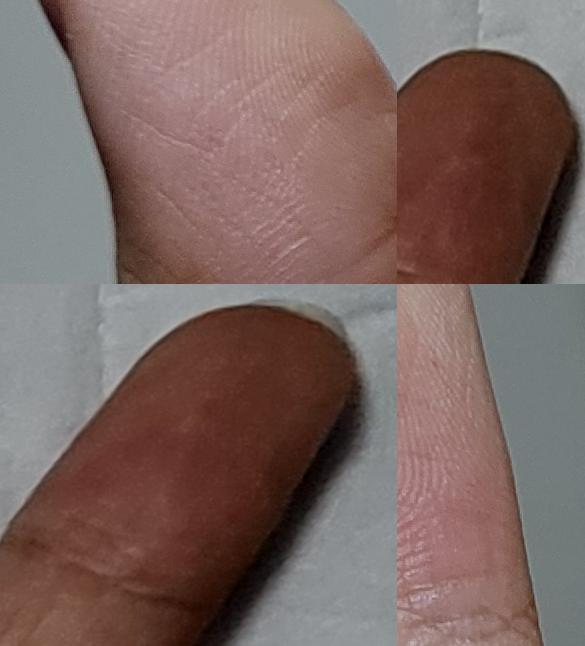Fingerprints: (1, 305, 356, 613), (61, 0, 397, 284), (397, 284, 531, 597), (397, 51, 577, 284)
